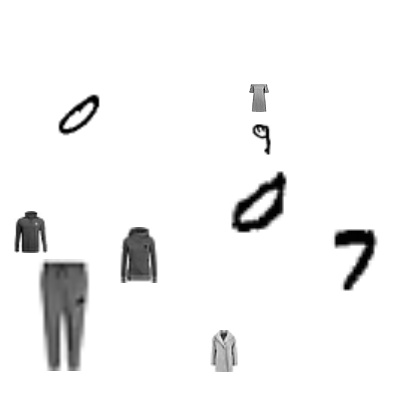0: (217, 163, 301, 247), (51, 85, 107, 141)
7: (314, 209, 398, 293)
9: (242, 114, 284, 156)
Coat: (203, 330, 245, 372)
Dress: (245, 84, 273, 112)
Pullover: (111, 227, 167, 283), (10, 211, 52, 253)
Trouser: (8, 259, 120, 371)
